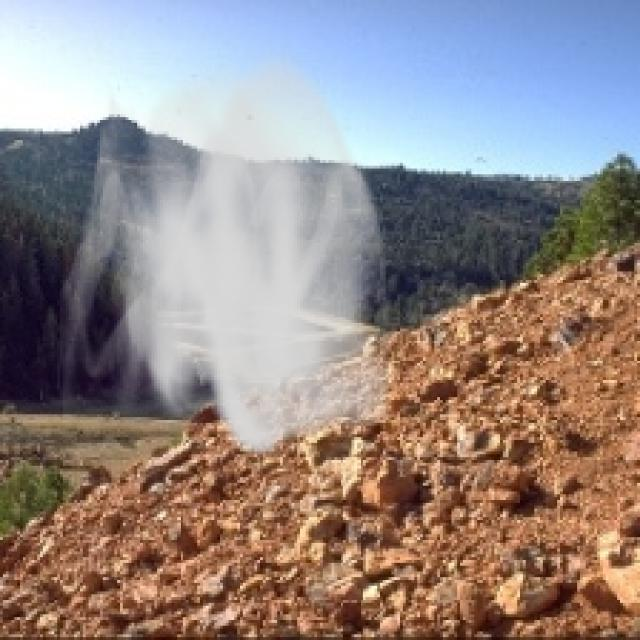smoke: (54, 43, 400, 460)
